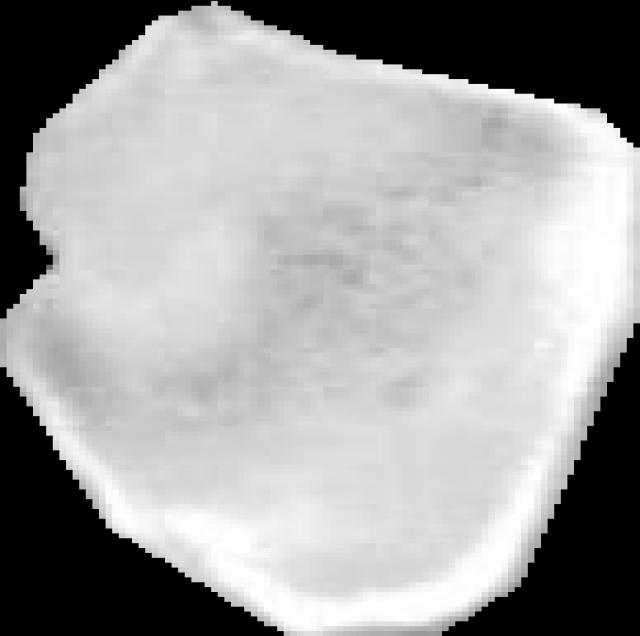tumor_less_chance: (0, 1, 640, 636)
